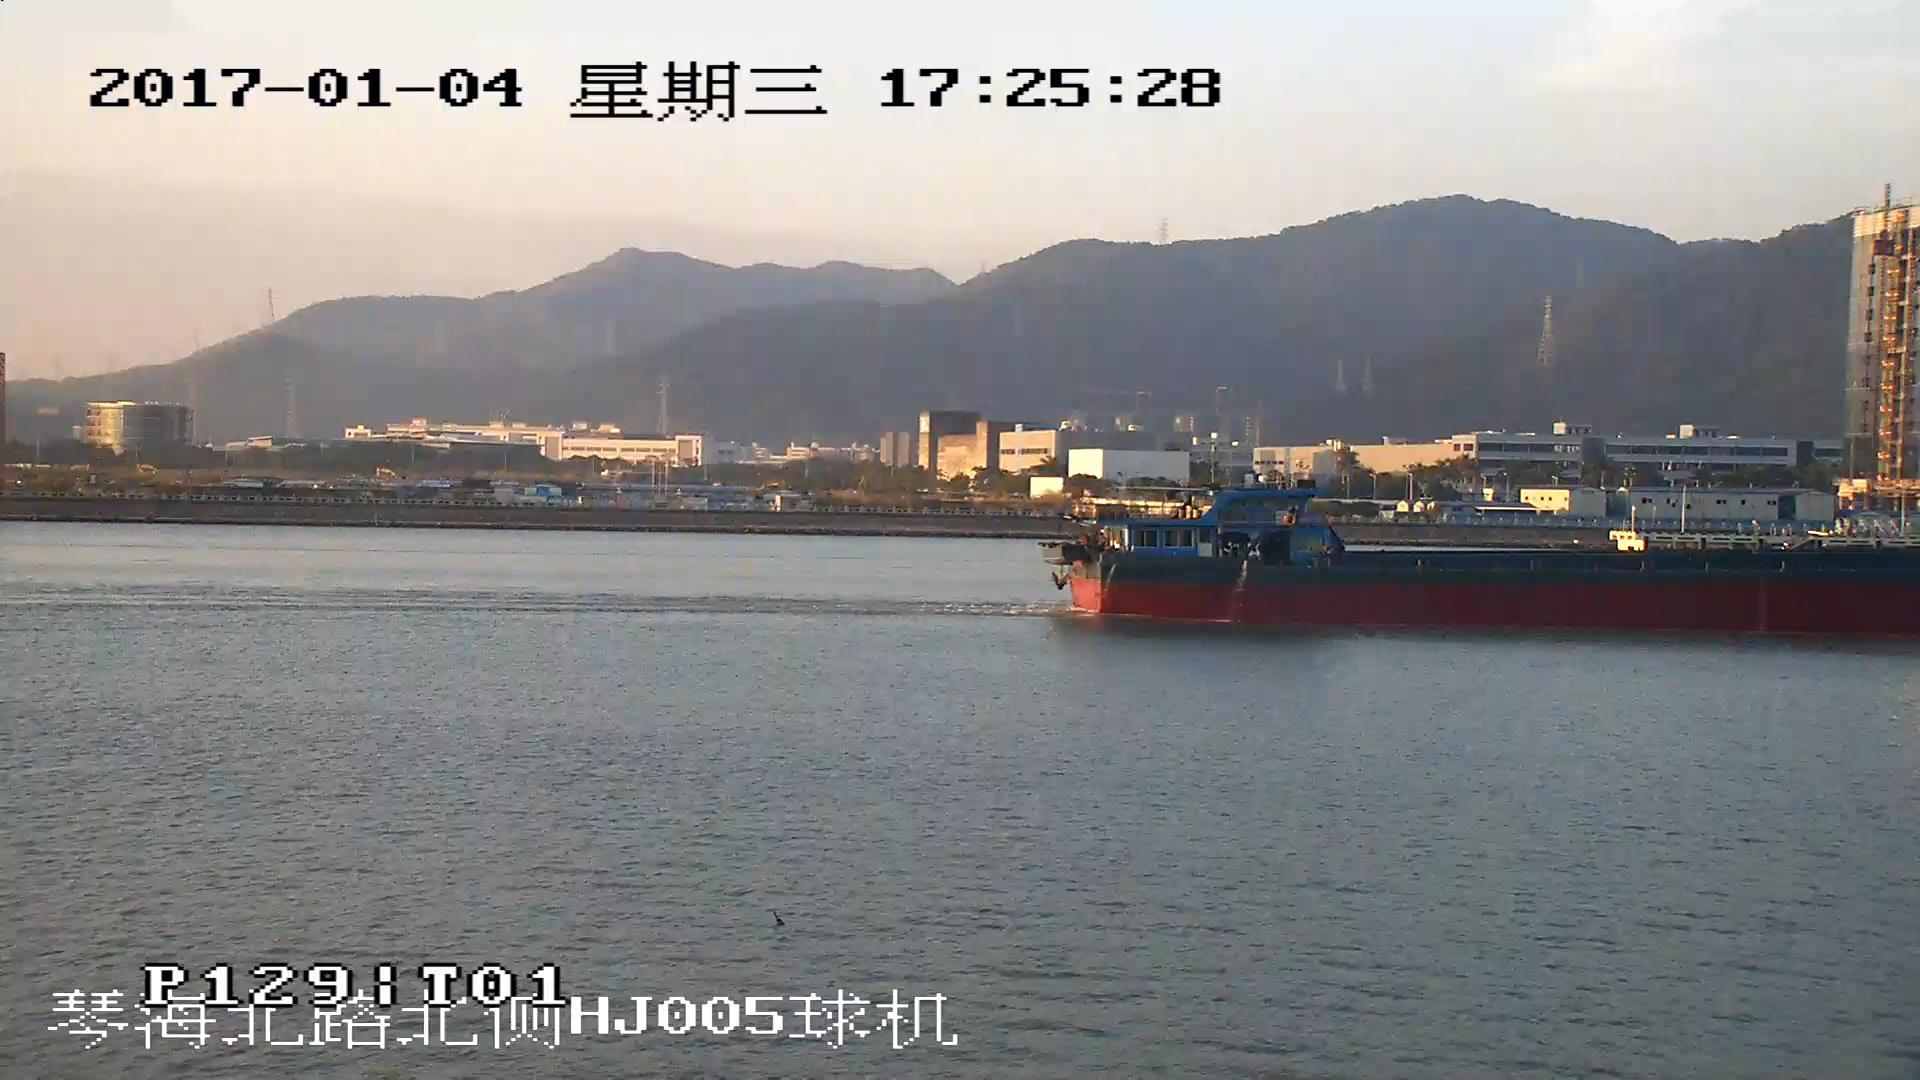Ship: (1043, 493, 1920, 642)
